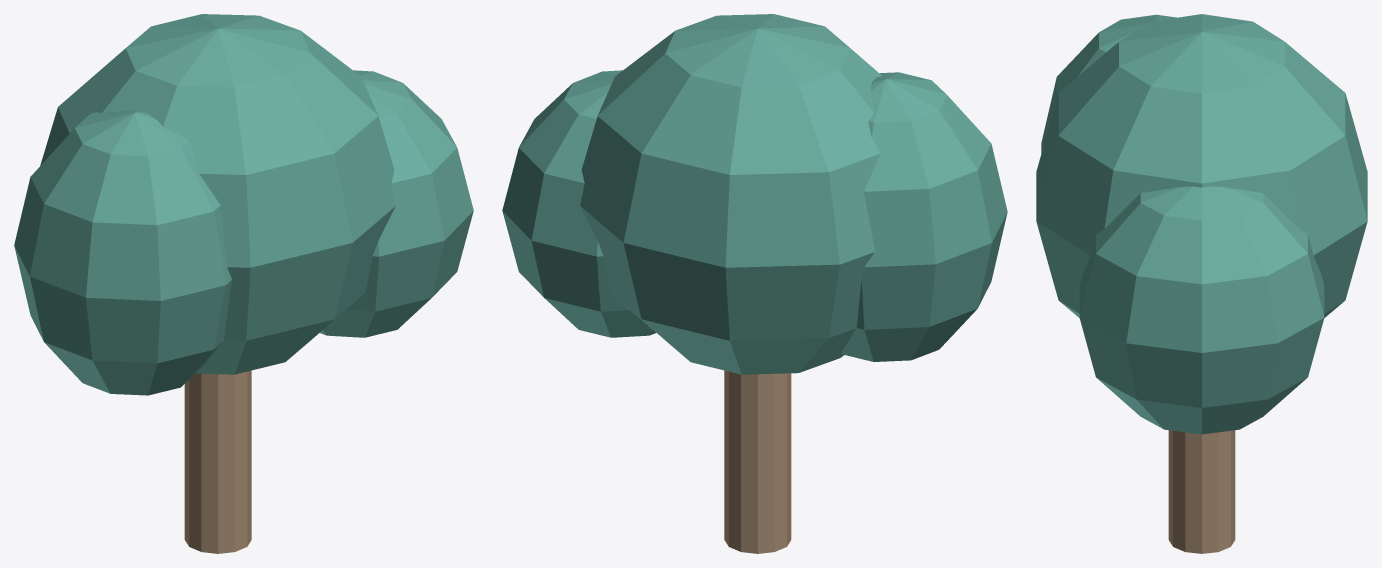
Rendered from ancient_tree.glb.
The picture shows the model from 3 angles, left to right: view 1: azimuth 30°, elevation 25°; view 2: azimuth 150°, elevation 25°; view 3: azimuth 270°, elevation 25°; orthographic projection.
Visible parts, largest first — view 1: canopy (×3), trunk; view 2: canopy (×3), trunk; view 3: canopy (×3), trunk.
Boxes of the visible parts, x1,y1,x2,y2 form: canopy (×3): (14,14,473,395); trunk: (184,370,251,553); canopy (×3): (502,14,1007,374); trunk: (724,370,791,553); canopy (×3): (1036,14,1367,434); trunk: (1168,430,1235,553).
Size of the model in its own units: 3.4 by 3.7 by 2.19.
